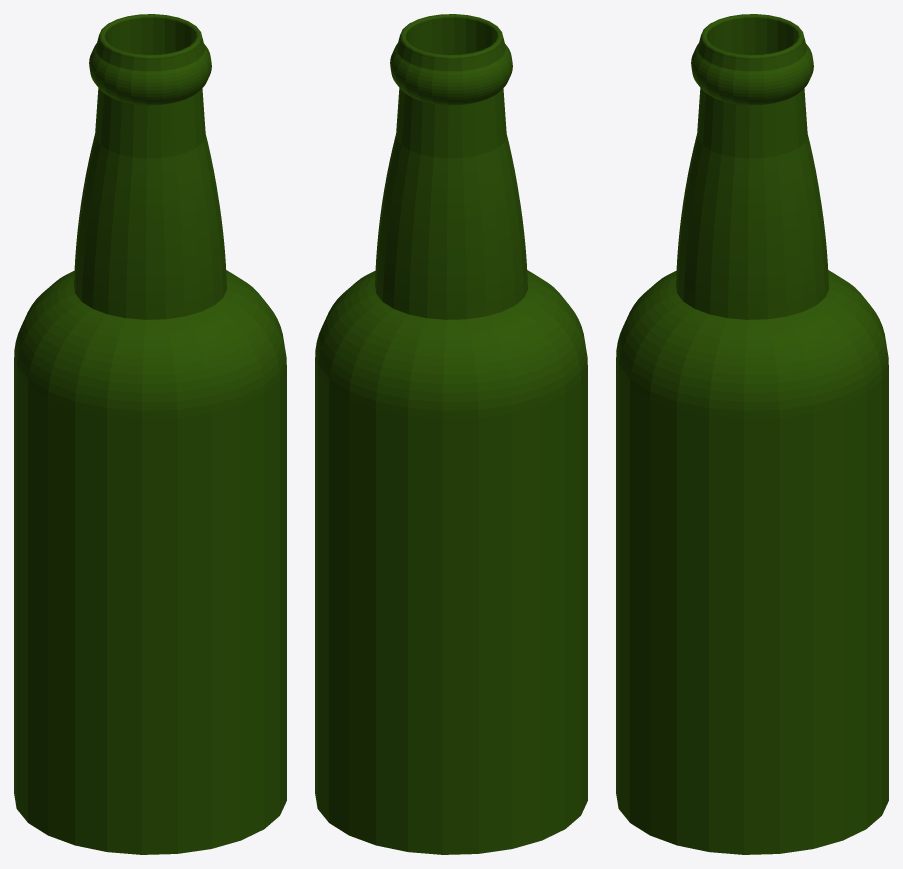
3 views of the same model, side by side, from view 1: azimuth 30°, elevation 25°; view 2: azimuth 150°, elevation 25°; view 3: azimuth 270°, elevation 25° (orthographic).
Visible parts, largest first — view 1: mesh1_mesh1-geometry; view 2: mesh1_mesh1-geometry; view 3: mesh1_mesh1-geometry.
Boxes of the visible parts, x1,y1,x2,y2 form: mesh1_mesh1-geometry: (14, 14, 286, 854); mesh1_mesh1-geometry: (315, 14, 587, 854); mesh1_mesh1-geometry: (616, 14, 888, 854).
Size of the model in its own units: 0.2947 by 0.909 by 0.2947.
